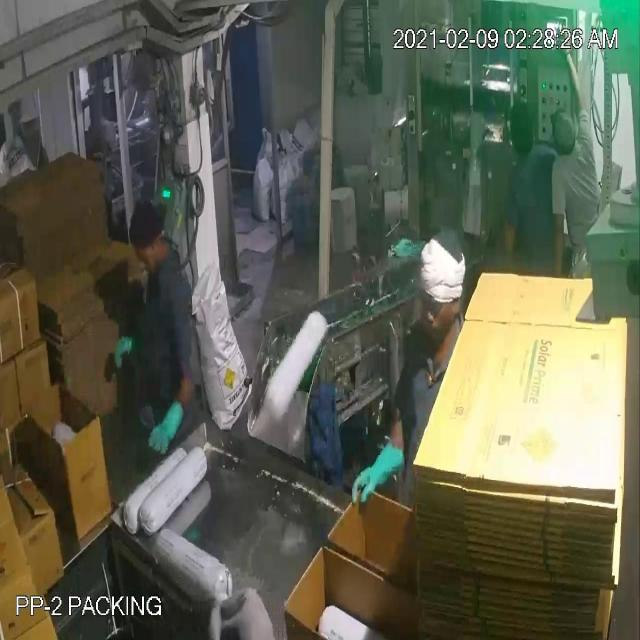Gloves: (29, 54, 572, 474)
